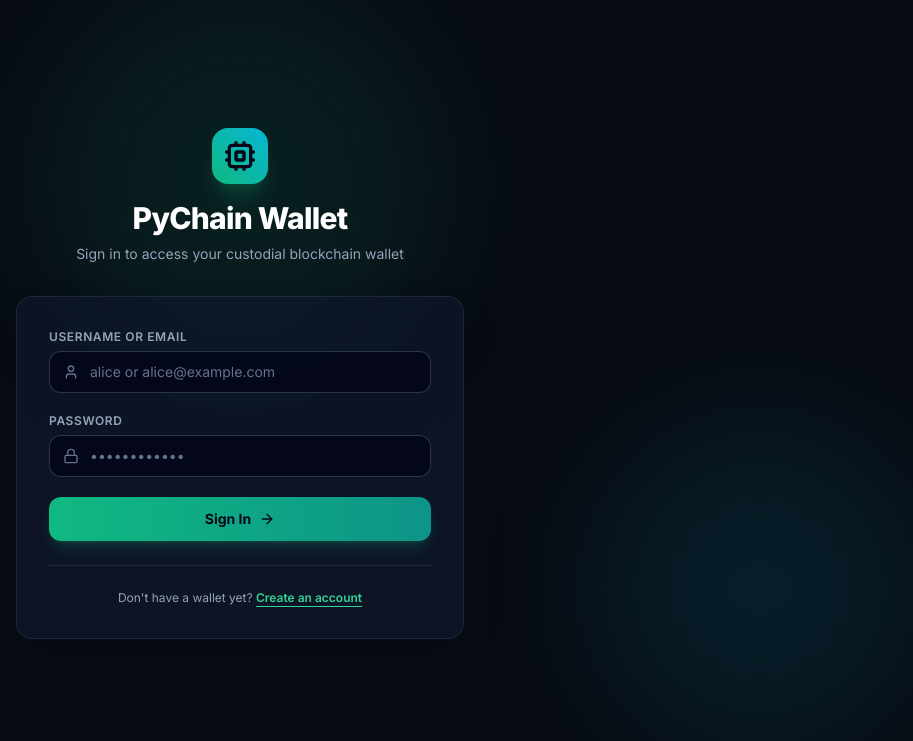
Test case: LoginPage › displays error message from backend when login fails
This screenshot has width=913, height=741.
Type "alice" into the field labelled "Username or Email". click: coordinates (240, 372)
box: [49,350,431,392]
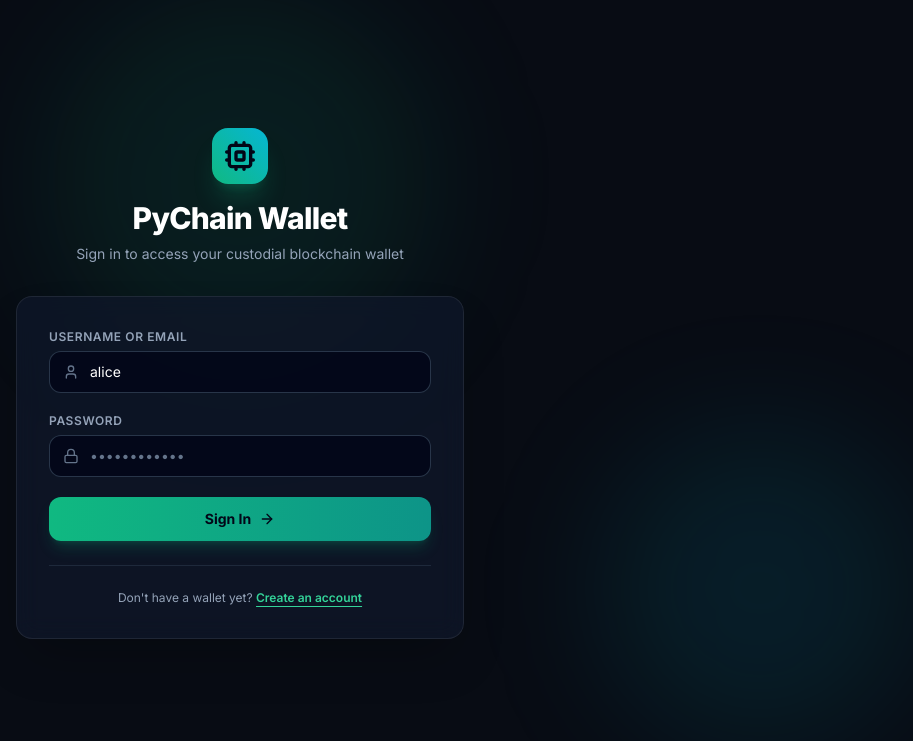
Type "wrongpassword123" into the password field labelled "Password". click: coordinates (240, 456)
box: [49,434,431,476]
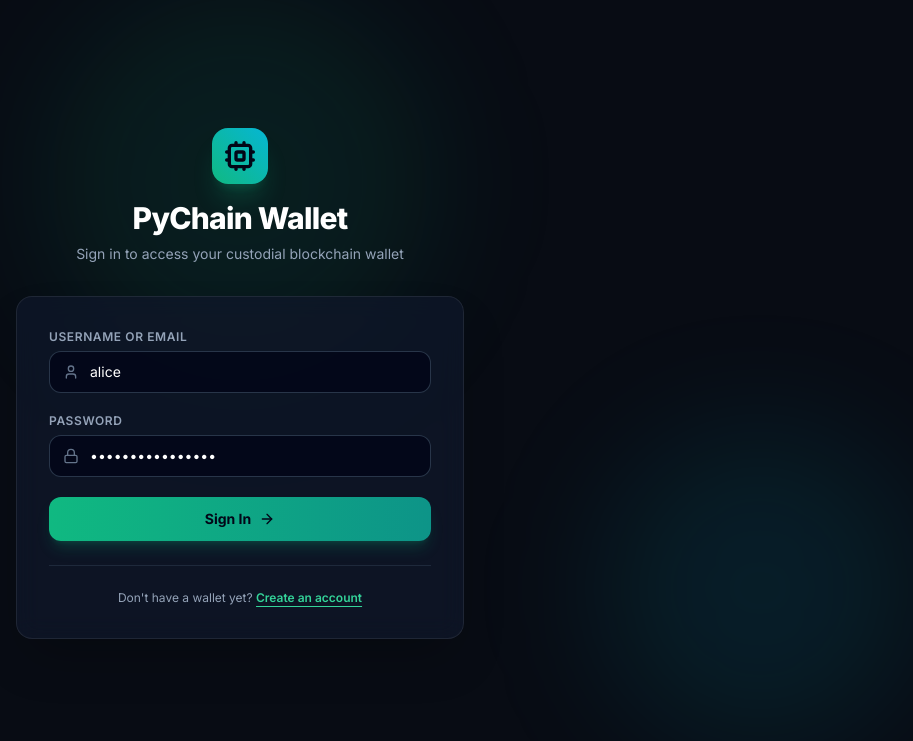
Click the button "Sign In". click: coordinates (240, 518)
box: [49,496,431,540]
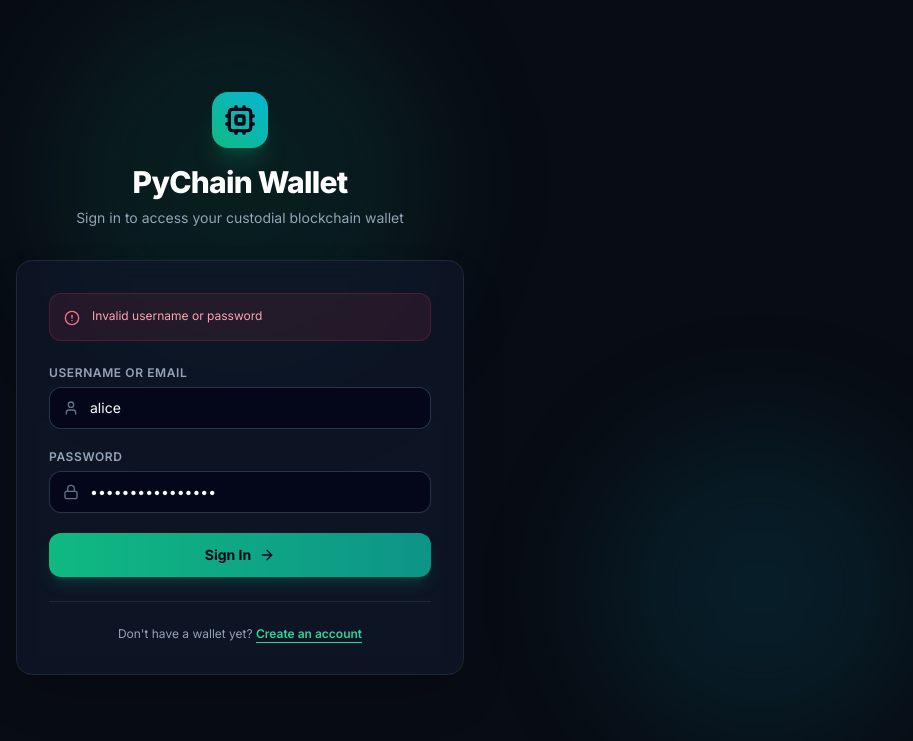
Check: the text "Invalid username or password" is shown, box [92,308,262,324]
